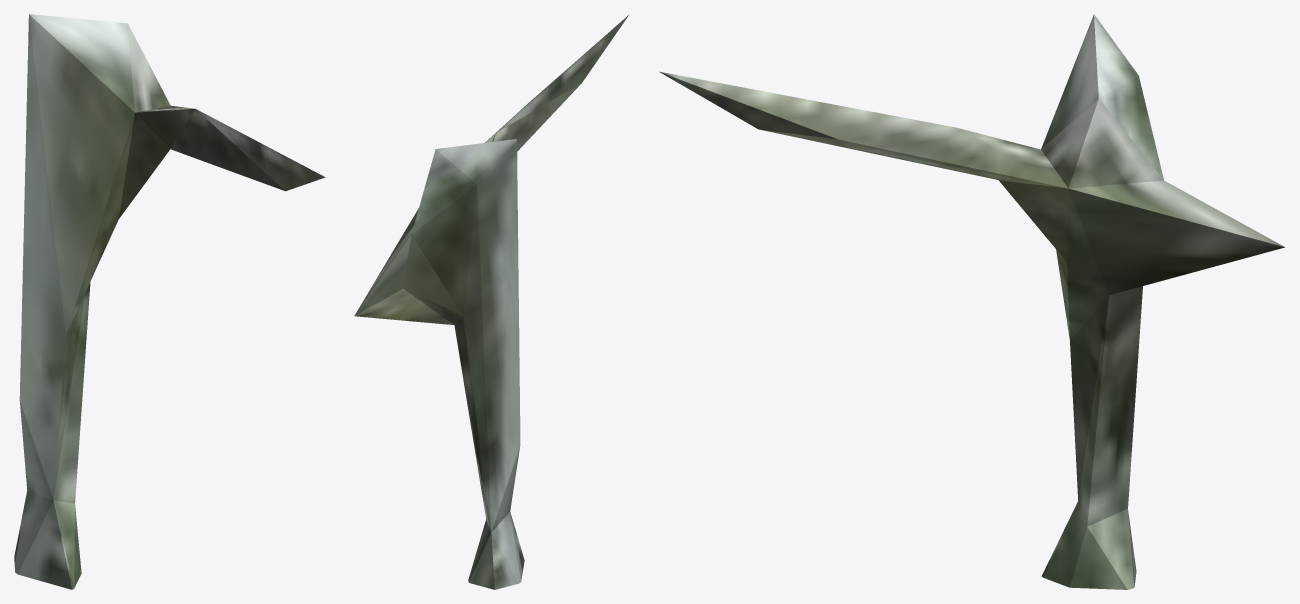
3 views of the same model, side by side, from view 1: azimuth 30°, elevation 25°; view 2: azimuth 150°, elevation 25°; view 3: azimuth 270°, elevation 25° (orthographic). The views are drawn at different scales.
Bounding box in the file's own units: 0.6241 × 2.44 × 2.5.
1 material, 1 textured.
